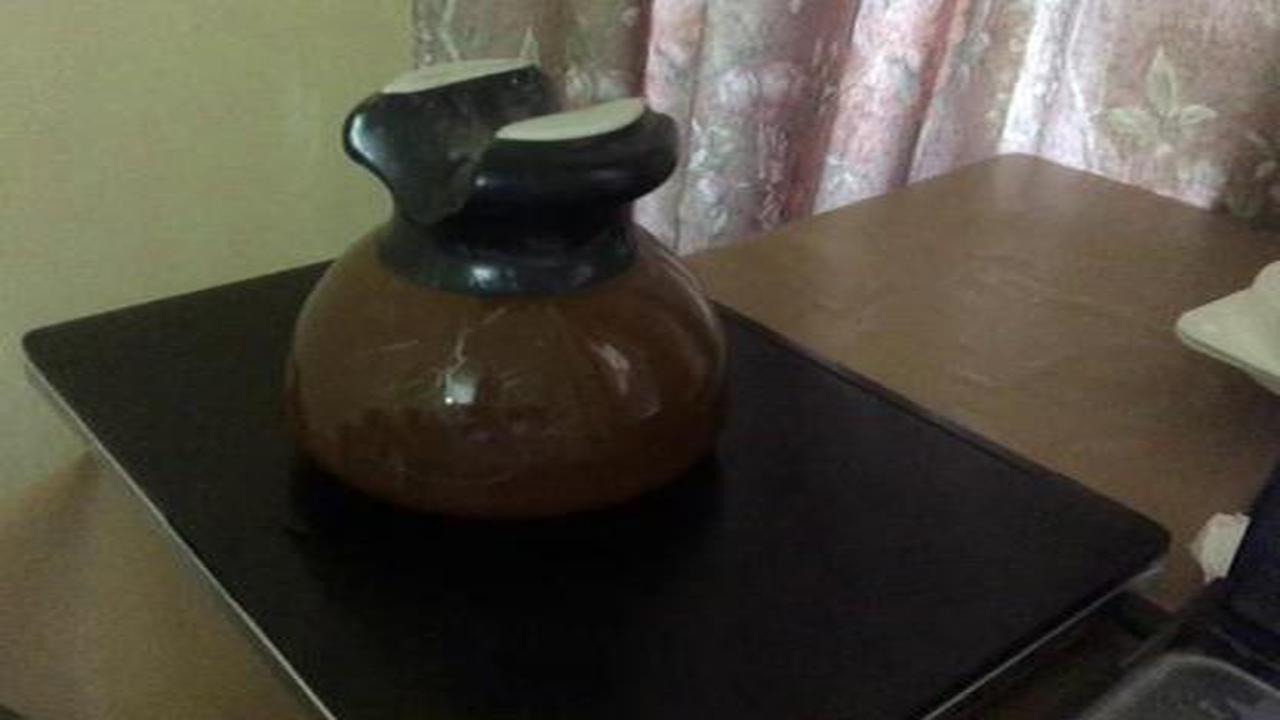insulator_pin: (268, 45, 754, 532)
